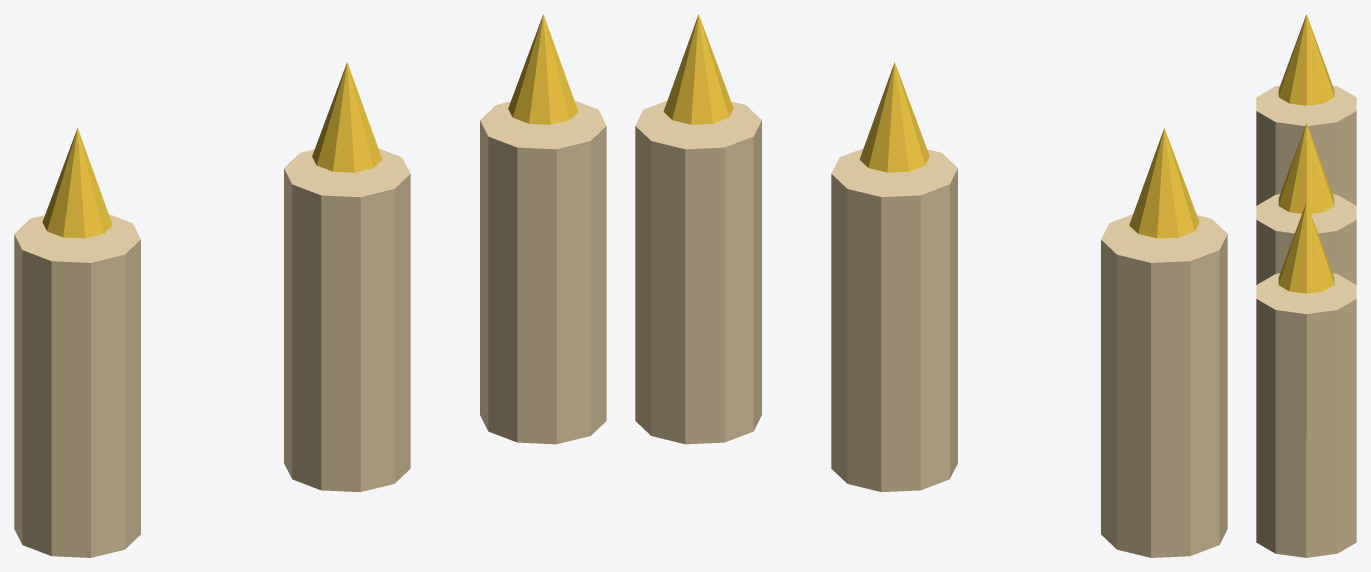
File: Candles.fbx
3 renders of one model, left to right at view 1: azimuth 30°, elevation 25°; view 2: azimuth 150°, elevation 25°; view 3: azimuth 270°, elevation 25°, orthographic. The views are drawn at different scales.
Visible parts, largest first — view 1: Candles.005; view 2: Candles.005; view 3: Candles.005.
Boxes of the visible parts, <box> form: Candles.005: <box>14,14,606,557</box>; Candles.005: <box>635,14,1227,557</box>; Candles.005: <box>1256,14,1356,557</box>.
Bounding box in the file's own units: 47 × 31.5 × 8.56.
